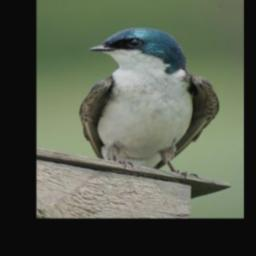Swallow: (77, 26, 220, 180)
